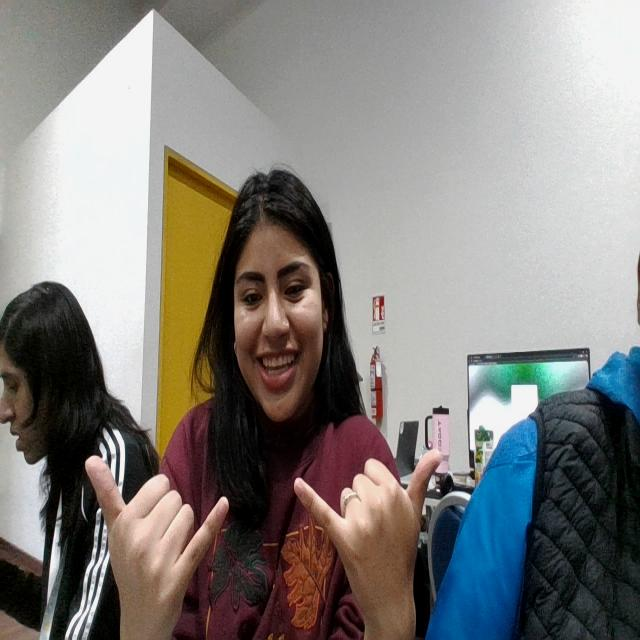now: (83, 427, 446, 640)
